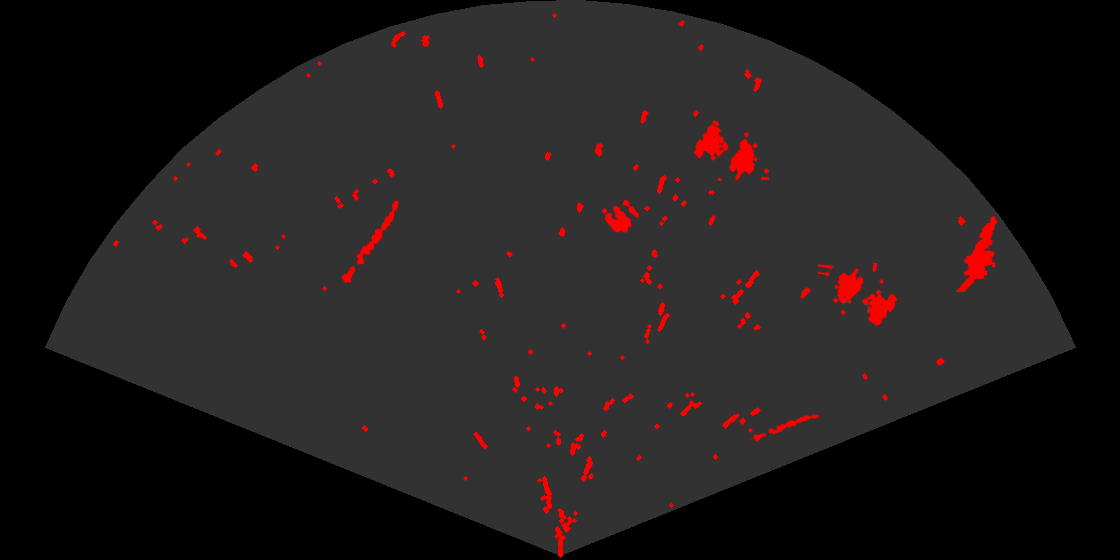ball: (603, 198, 641, 234)
cage: (818, 263, 899, 327), (692, 123, 769, 181)
chain: (340, 199, 400, 285), (747, 413, 822, 444)
frogman: (954, 215, 999, 292)
